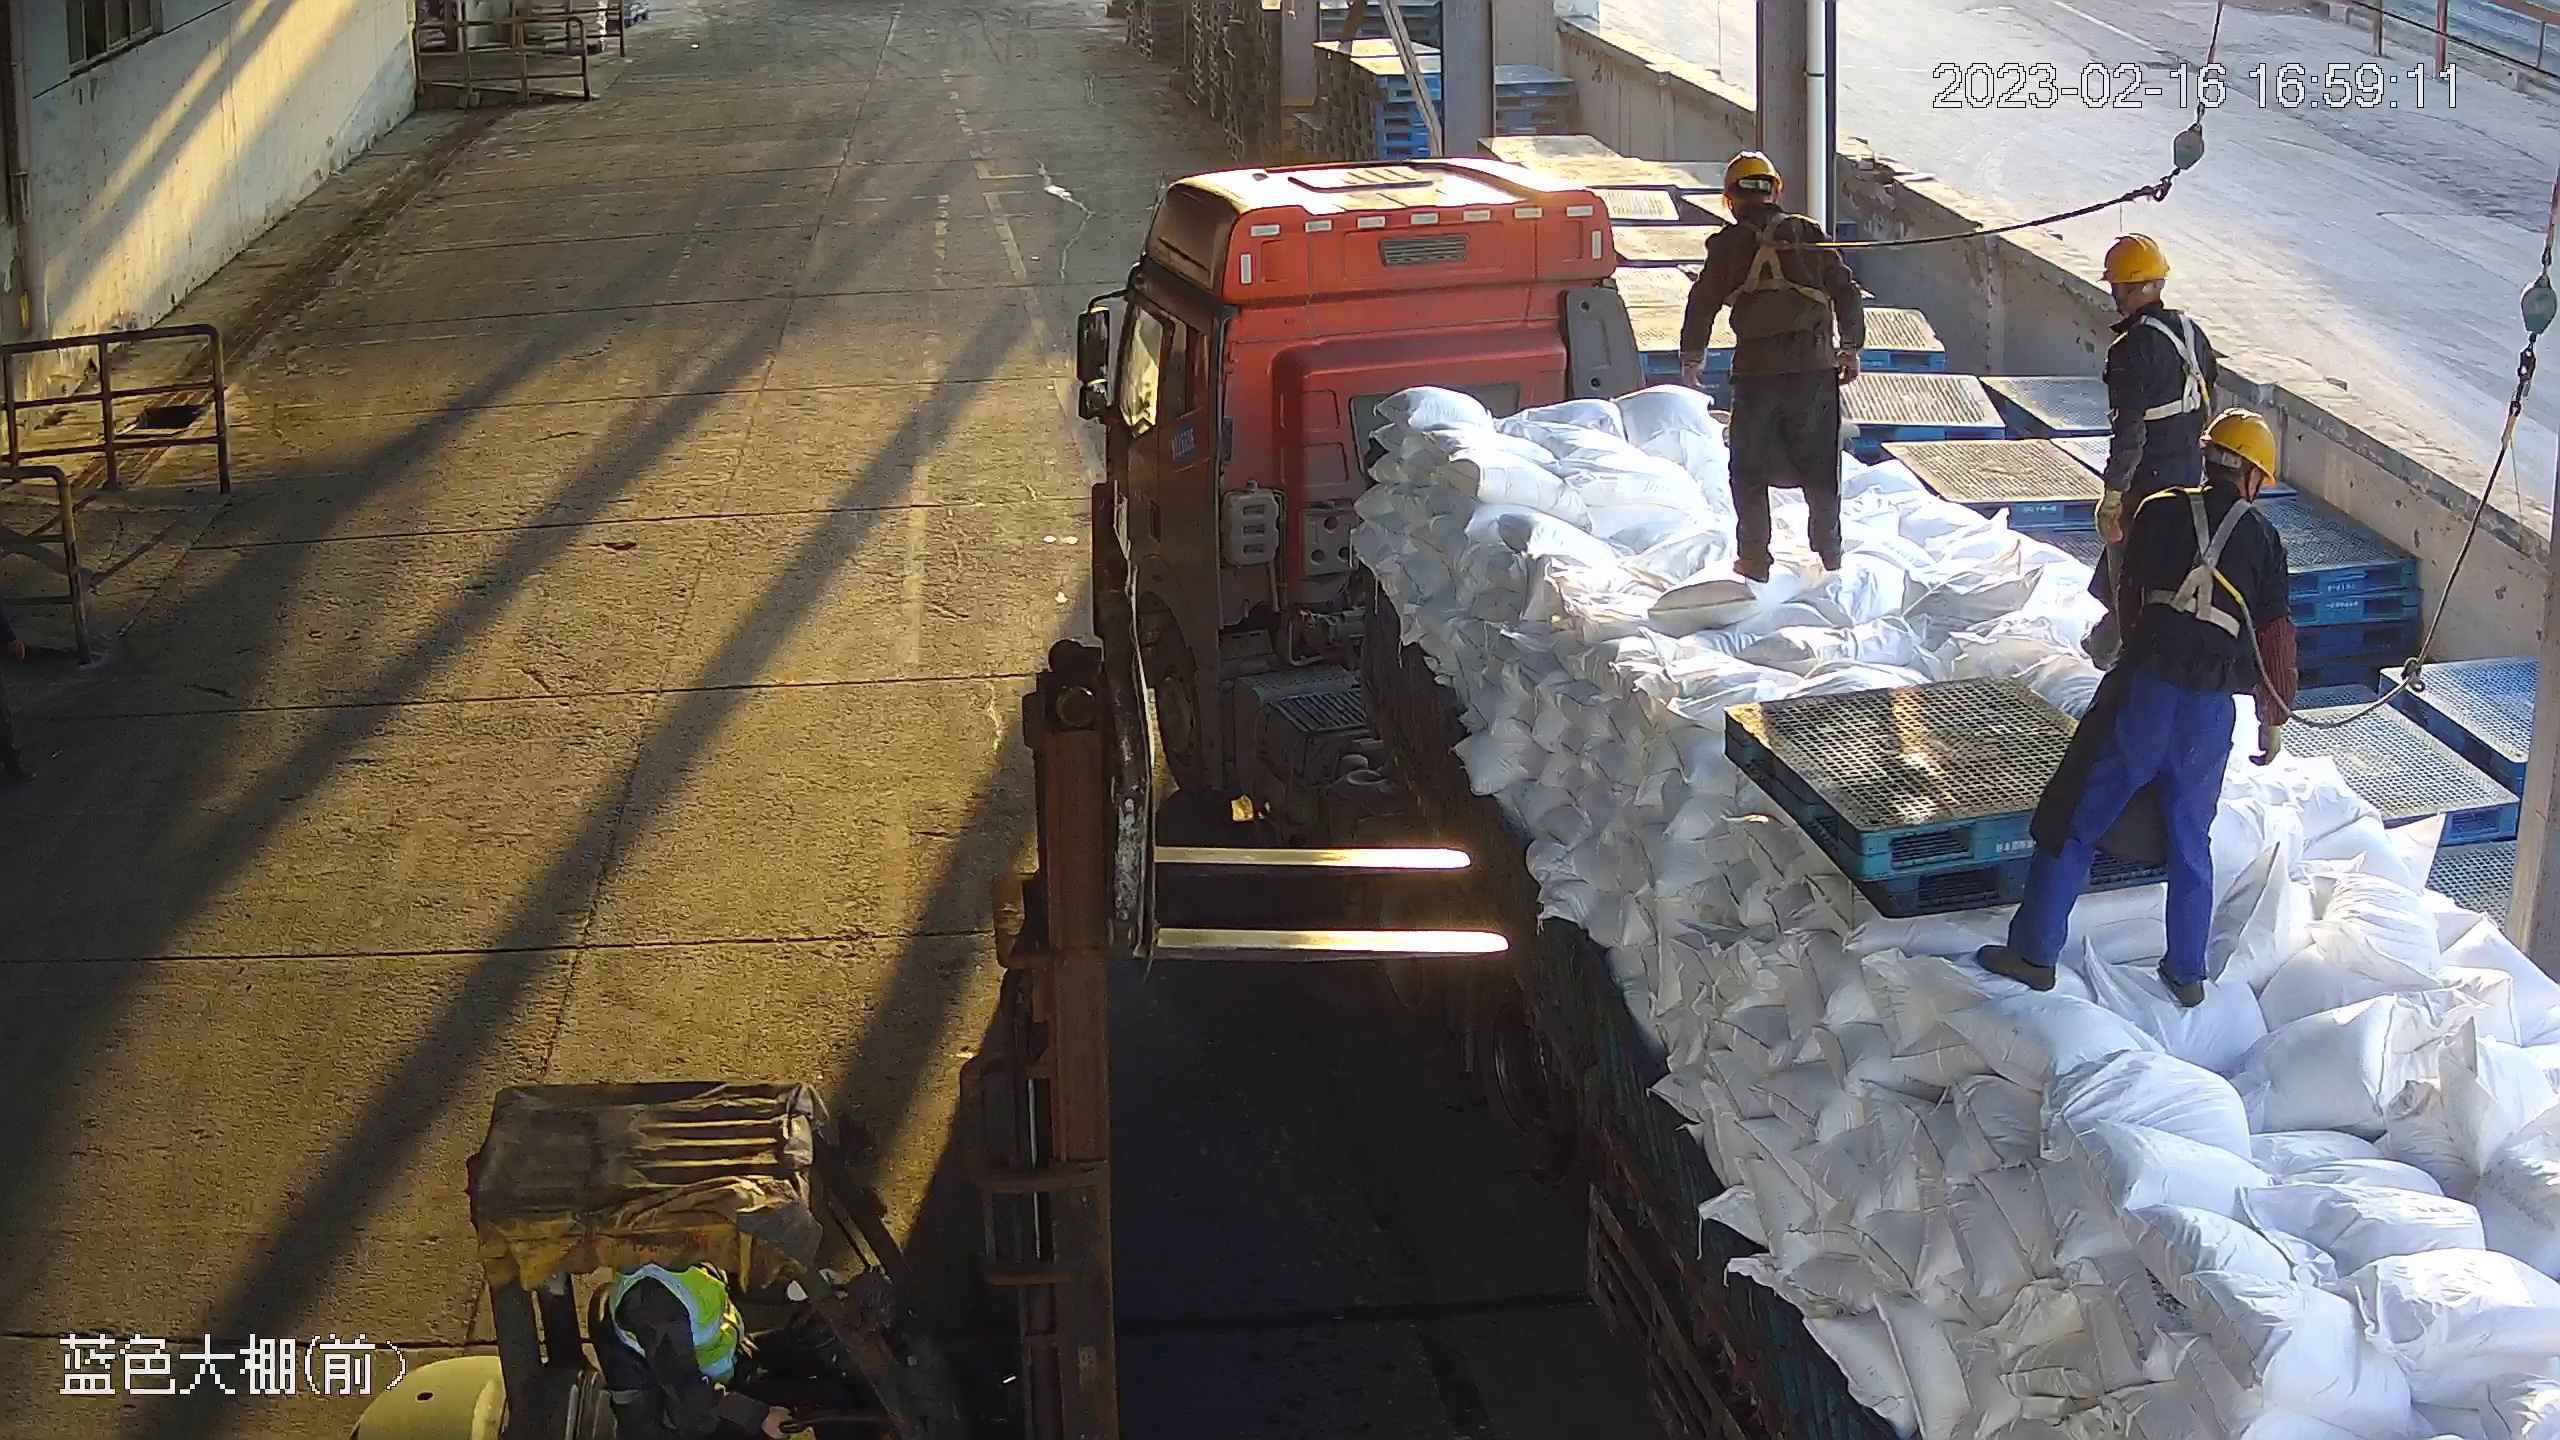belt: (2155, 490, 2262, 632), (2127, 315, 2218, 425), (1735, 218, 1837, 302)
head: (2142, 402, 2295, 562), (2093, 236, 2199, 353), (1713, 158, 1820, 250)
helmet: (2202, 399, 2284, 483), (2099, 234, 2174, 288), (1716, 157, 1784, 202)
people: (1986, 408, 2306, 1008), (1686, 153, 1865, 576), (2069, 232, 2232, 683)
truck: (1055, 153, 2560, 1440)
